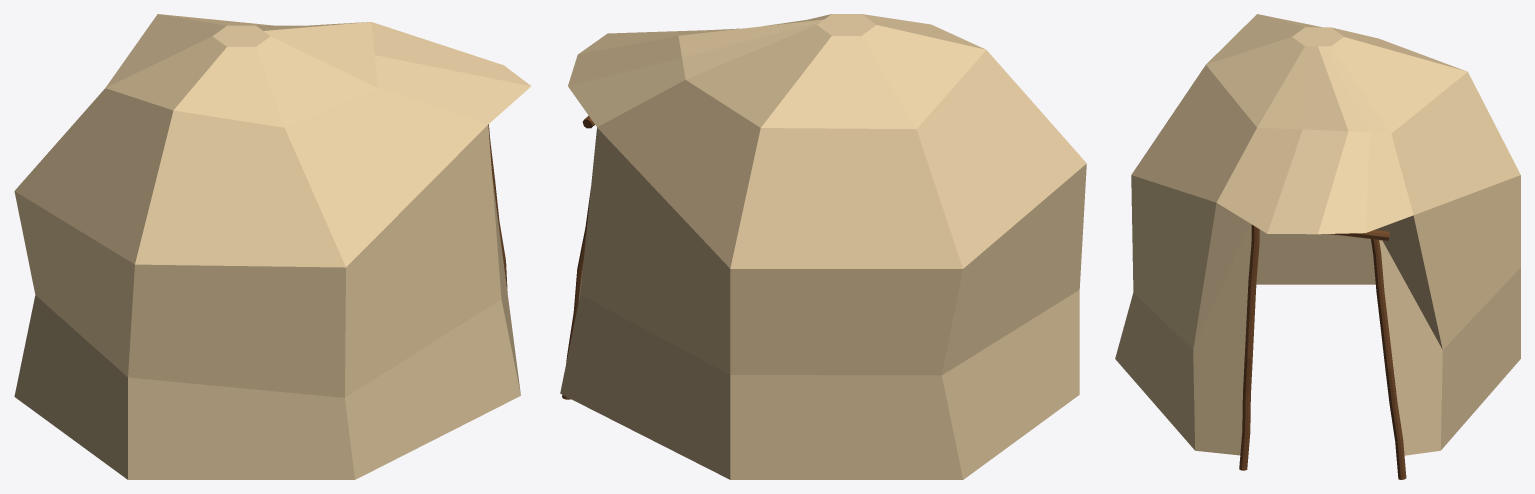
File: tent.glb
3 renders of one model, left to right at view 1: azimuth 30°, elevation 25°; view 2: azimuth 150°, elevation 25°; view 3: azimuth 270°, elevation 25°, orthographic. The views are drawn at different scales.
Visible parts, largest first — view 1: Окружность; view 2: Окружность, Окружность.002; view 3: Окружность, Окружность.001, Окружность.002.
Boxes of the visible parts, x1,y1,x2,y2 form: Окружность: (14, 14, 531, 479); Окружность: (560, 14, 1086, 479); Окружность.002: (562, 188, 590, 399); Окружность: (1115, 14, 1520, 455); Окружность.001: (1239, 224, 1259, 470); Окружность.002: (1371, 239, 1406, 479).
Size of the model in its own units: 2.2 by 1.87 by 2.
